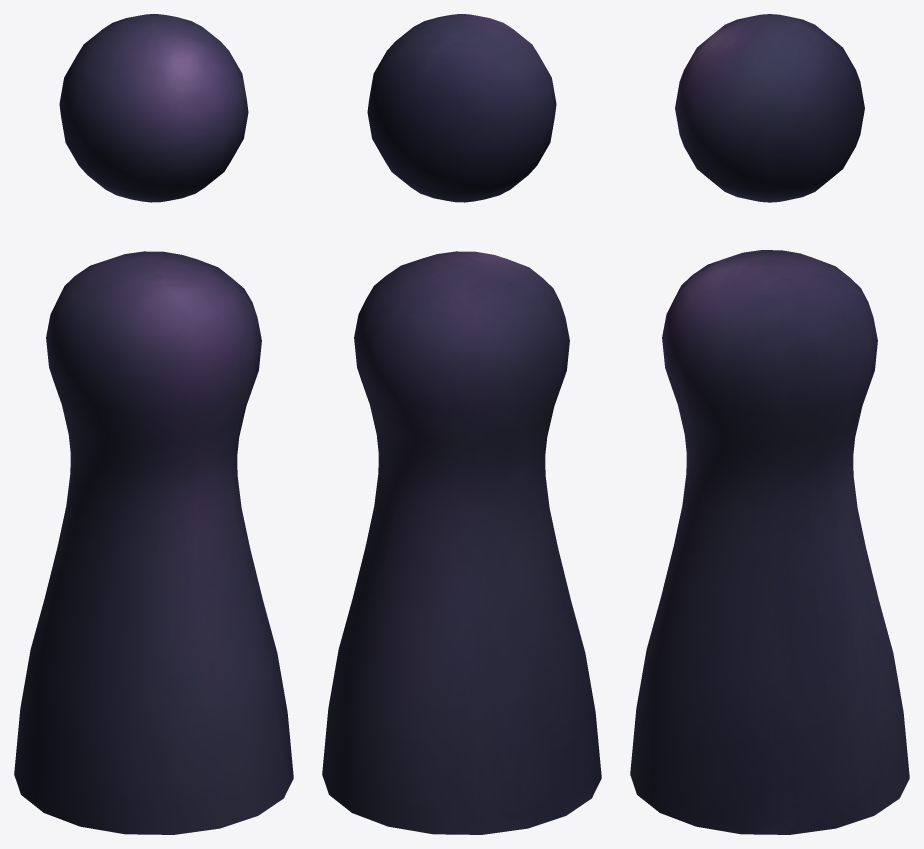
File: Exclamation mark.FBX
3 renders of one model, left to right at view 1: azimuth 30°, elevation 25°; view 2: azimuth 150°, elevation 25°; view 3: azimuth 270°, elevation 25°, orthographic.
Parts seen in each view (by area): view 1: Cylinder01; view 2: Cylinder01; view 3: Cylinder01.
Part boxes in pixels (bbox=[...]): Cylinder01: bbox=[14, 14, 293, 834]; Cylinder01: bbox=[322, 14, 601, 834]; Cylinder01: bbox=[630, 14, 909, 834].
Bounding box in the file's own units: 10.2 × 30.65 × 10.3.
1 material, 1 textured.
